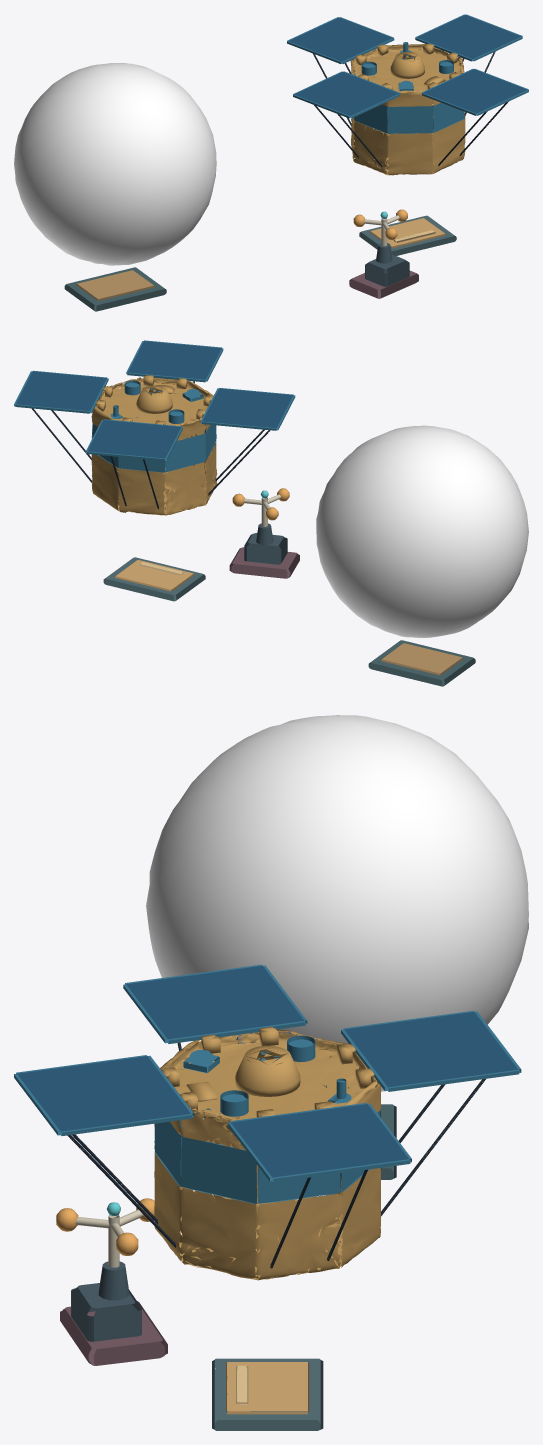
Rendered from sol.obj.
The picture shows the model from 3 angles, top to bottom: view 1: azimuth 30°, elevation 25°; view 2: azimuth 150°, elevation 25°; view 3: azimuth 270°, elevation 25°; orthographic projection. The views are drawn at different scales.
Parts seen in each view (by area): view 1: sol; view 2: sol; view 3: sol.
Part boxes in pixels (x1,y1,x2,y2): sol: [14, 14, 528, 311]; sol: [14, 340, 528, 686]; sol: [14, 715, 528, 1430].
Size of the model in its own units: 1.55 by 0.6843 by 0.7677.
